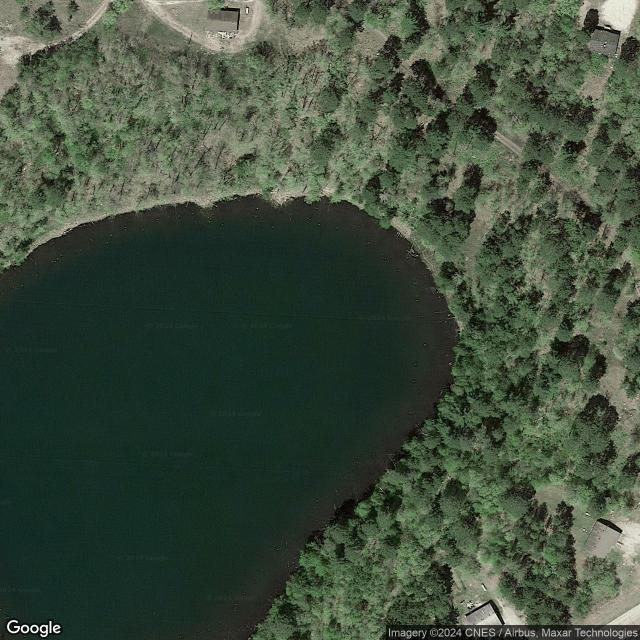Propane: (480, 582, 488, 593), (245, 7, 249, 15)
